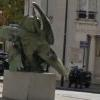Statue: (3, 6, 66, 86)
